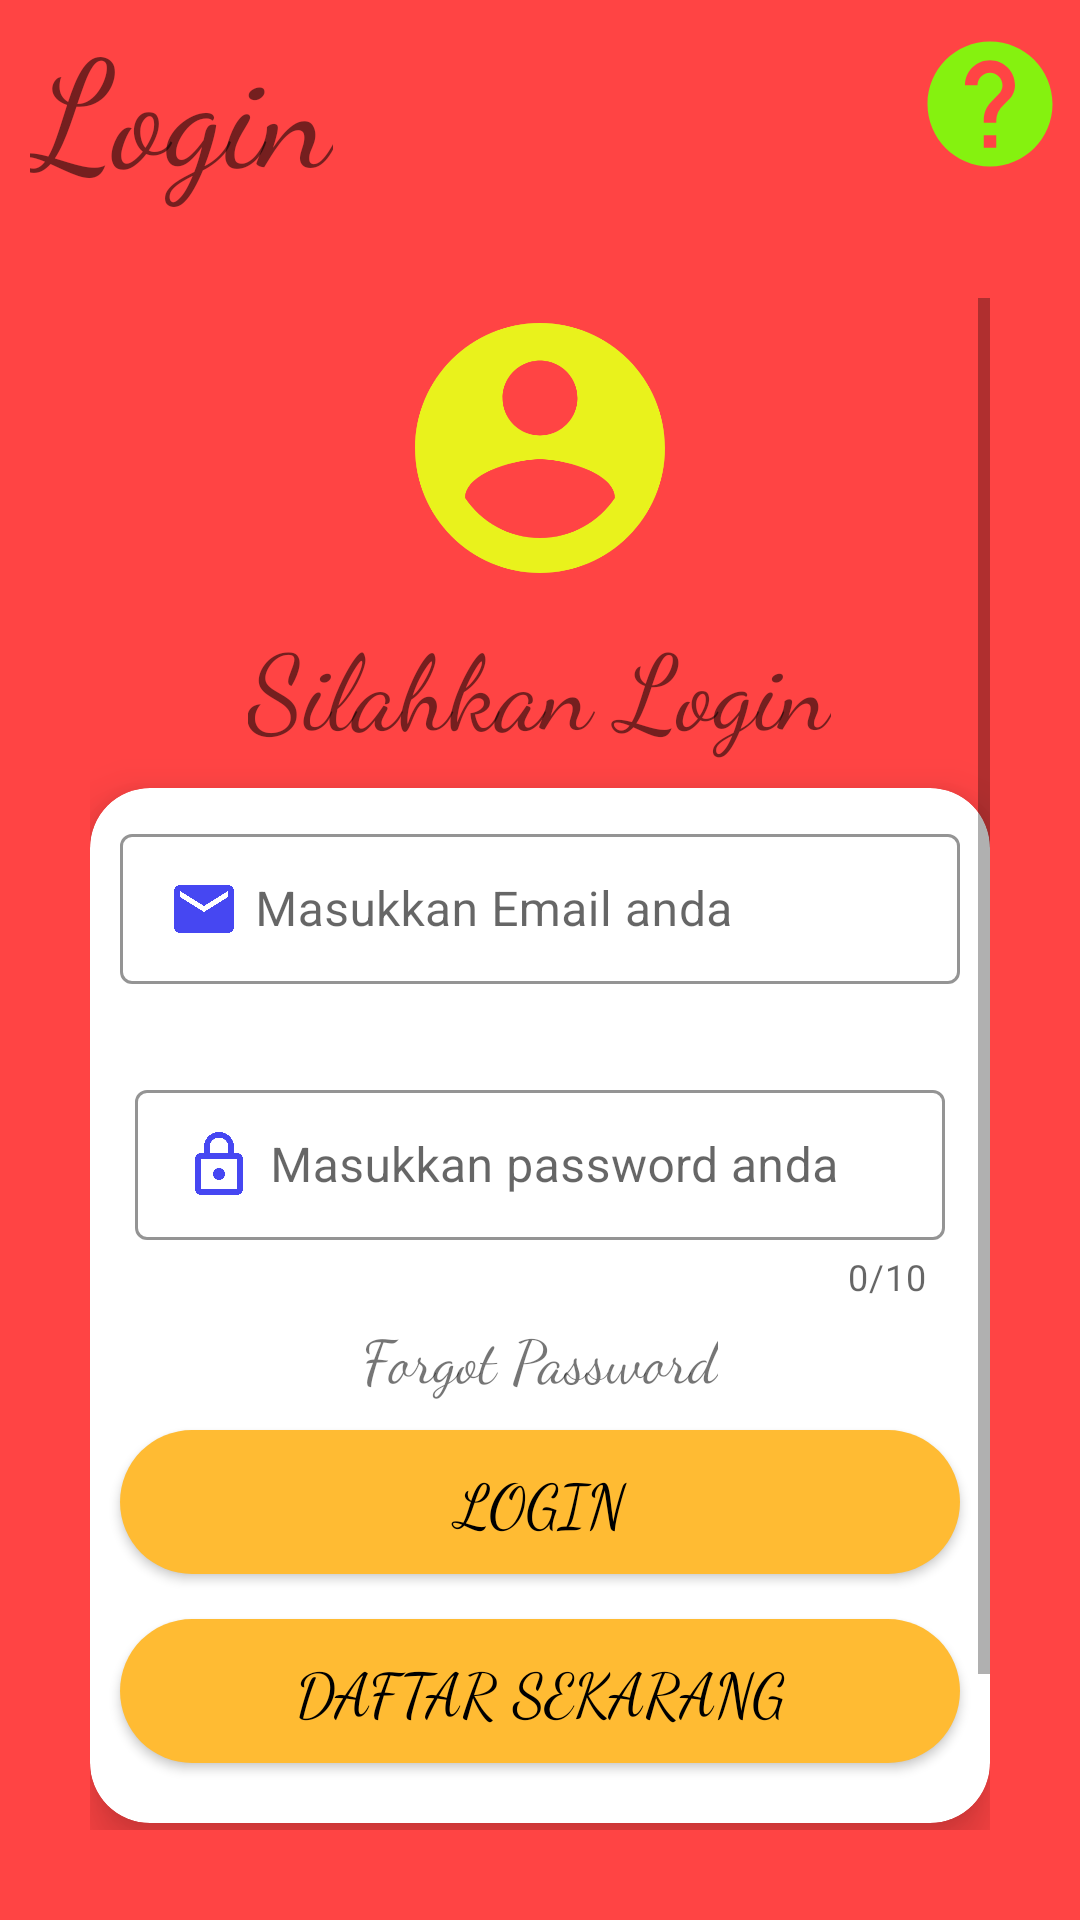

Icon click points for this 1080 × 1920 phone screenshot, format (x=x, y=y):
account circle: (x=540, y=448)
help: (x=990, y=104)
